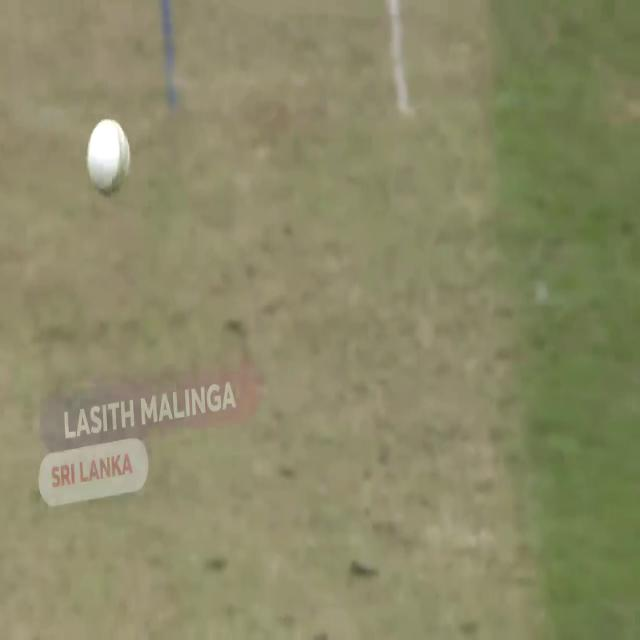ball: (81, 114, 135, 202)
